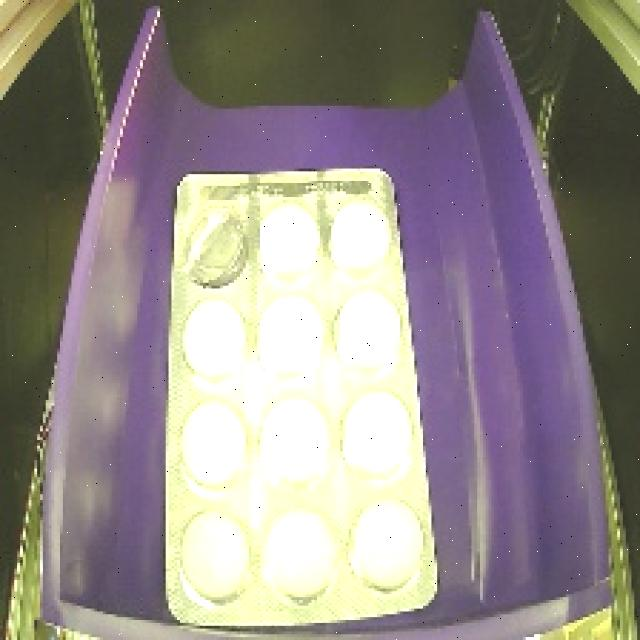med_plate: (158, 148, 447, 634)
